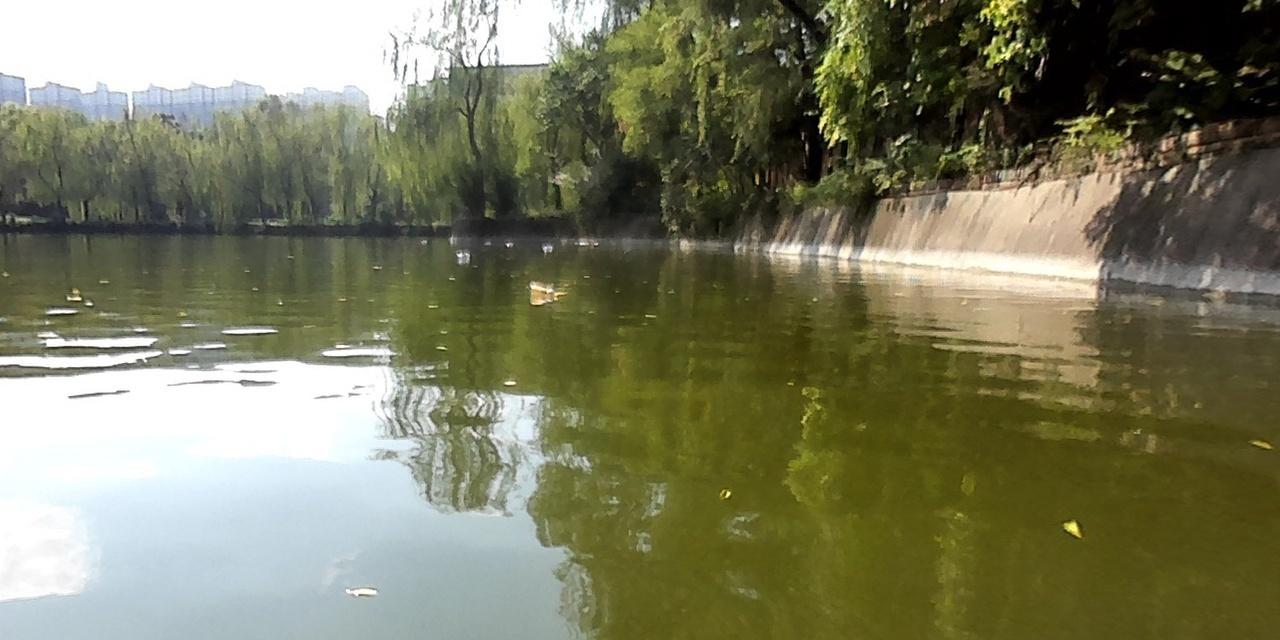bottle: (526, 278, 557, 301), (452, 250, 469, 260), (541, 243, 552, 253)
